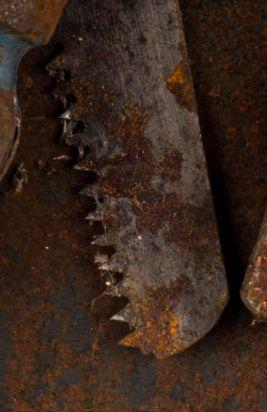metal: (34, 6, 229, 350), (2, 0, 75, 188)
